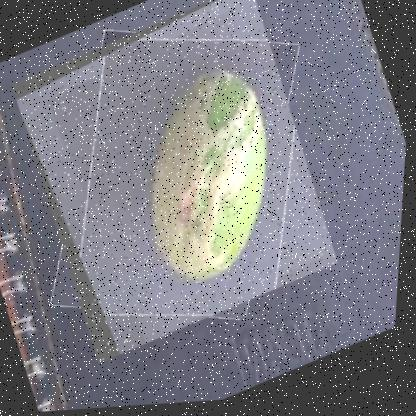orange_rotten: (0, 0, 354, 371)
